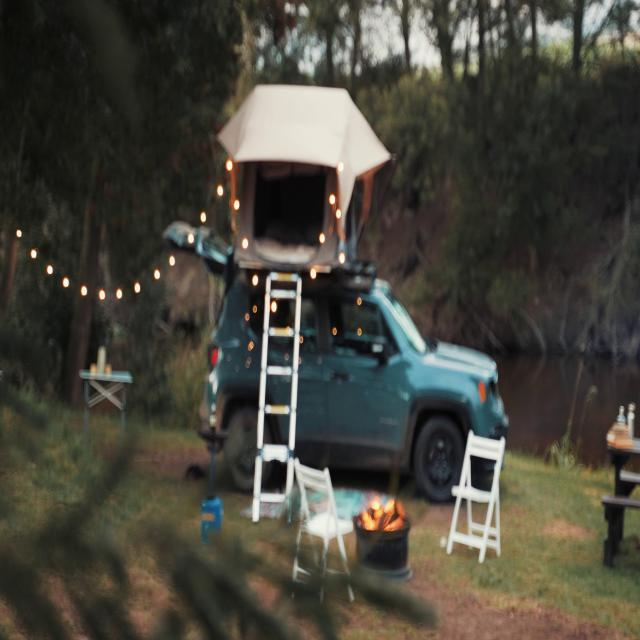Fire: (362, 487, 400, 536)
